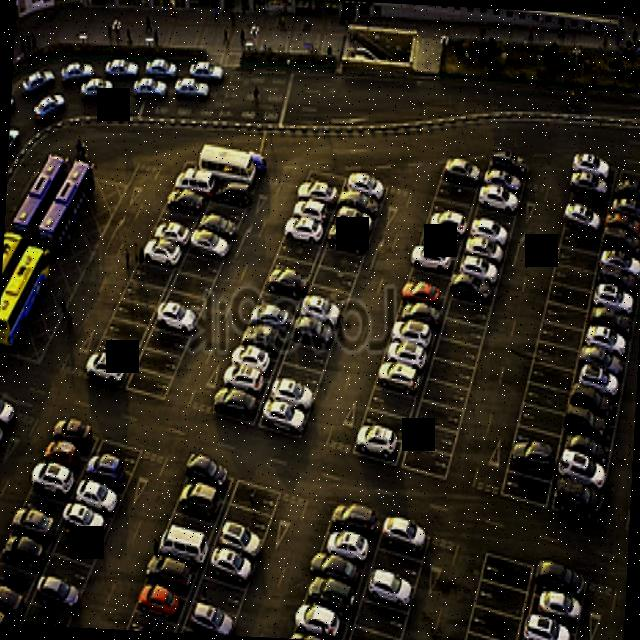car: (287, 593, 351, 640), (132, 573, 188, 623), (347, 422, 405, 469), (552, 473, 602, 527), (300, 574, 360, 618), (154, 522, 207, 568), (530, 586, 584, 630), (324, 496, 378, 540), (207, 542, 258, 588), (308, 544, 364, 585), (171, 478, 222, 523), (142, 548, 194, 592), (378, 516, 432, 558), (532, 555, 586, 596), (373, 353, 427, 394), (80, 350, 134, 391), (296, 292, 346, 336), (215, 515, 266, 558), (31, 573, 84, 614), (259, 396, 307, 441), (210, 385, 262, 426), (386, 310, 439, 350), (324, 218, 372, 262), (324, 521, 378, 560), (398, 270, 450, 310), (238, 320, 290, 359), (289, 312, 337, 354), (187, 597, 238, 636), (245, 299, 296, 338), (362, 570, 417, 606), (392, 297, 450, 331), (264, 379, 322, 413), (58, 504, 112, 540), (1, 531, 49, 571), (31, 458, 79, 498), (405, 240, 458, 276), (182, 449, 235, 485), (50, 414, 100, 452), (334, 184, 386, 220), (502, 440, 560, 472), (12, 502, 58, 542), (259, 264, 310, 300), (382, 332, 432, 368), (72, 478, 122, 514), (138, 235, 185, 273), (220, 361, 268, 398), (292, 165, 340, 202), (582, 326, 634, 360), (230, 340, 274, 380), (286, 194, 334, 230), (83, 455, 132, 490), (38, 434, 88, 468), (571, 144, 615, 182), (282, 210, 326, 248), (576, 349, 629, 380), (332, 202, 379, 236), (569, 392, 620, 423), (152, 305, 203, 336), (277, 617, 345, 640), (150, 220, 193, 256), (196, 209, 240, 244), (556, 459, 612, 486), (466, 232, 507, 268), (519, 615, 578, 640), (575, 368, 624, 398), (440, 152, 482, 187), (344, 165, 386, 200), (207, 178, 256, 208), (187, 228, 230, 262), (565, 411, 612, 442), (593, 284, 640, 315), (470, 216, 511, 251), (458, 250, 501, 283), (584, 307, 637, 333), (218, 155, 258, 189), (162, 187, 205, 218), (599, 247, 640, 278), (595, 267, 640, 295), (172, 171, 214, 201), (559, 206, 607, 232), (424, 211, 471, 237), (0, 578, 26, 625), (482, 164, 525, 192), (450, 270, 490, 300), (478, 182, 518, 212), (566, 173, 614, 197), (489, 147, 529, 175), (182, 154, 221, 182), (604, 223, 640, 253), (562, 438, 608, 461), (107, 616, 169, 632), (605, 210, 640, 238), (610, 169, 640, 199), (610, 191, 640, 218), (0, 391, 22, 423), (0, 414, 8, 455), (0, 600, 12, 624)
free: (462, 589, 528, 640), (479, 544, 538, 597), (475, 572, 533, 617), (371, 544, 429, 588), (193, 573, 249, 618), (498, 466, 556, 509), (363, 380, 416, 427), (159, 502, 215, 546), (426, 348, 478, 395), (355, 598, 413, 640), (220, 500, 274, 545), (438, 308, 493, 352), (440, 294, 498, 334), (92, 428, 146, 469), (274, 362, 332, 399), (512, 399, 567, 438), (233, 472, 283, 514), (54, 524, 104, 566), (434, 328, 484, 369), (312, 255, 360, 297), (162, 268, 218, 304), (302, 275, 352, 314), (18, 483, 66, 523), (404, 421, 457, 457), (124, 366, 177, 402), (284, 338, 334, 376), (178, 250, 230, 286), (40, 557, 89, 595), (144, 325, 193, 363), (320, 239, 366, 279), (114, 280, 167, 314), (158, 285, 211, 319), (122, 600, 176, 633), (530, 340, 582, 374), (103, 316, 147, 356), (112, 294, 156, 334), (128, 254, 172, 294), (296, 162, 347, 196), (424, 378, 472, 414), (512, 383, 570, 412), (272, 231, 320, 266), (515, 418, 561, 454), (134, 346, 186, 377), (404, 446, 450, 481), (416, 398, 463, 432), (268, 250, 316, 283), (92, 332, 138, 366), (150, 204, 200, 235), (472, 198, 516, 233), (254, 284, 298, 319), (539, 300, 590, 330), (552, 245, 601, 276), (524, 366, 574, 396), (451, 618, 519, 640), (547, 280, 594, 311), (562, 188, 614, 214), (18, 604, 74, 628), (202, 197, 249, 225), (430, 179, 480, 205), (425, 193, 479, 217), (347, 618, 405, 640), (0, 559, 33, 597), (537, 324, 585, 350), (554, 228, 606, 252), (552, 262, 596, 290), (404, 266, 456, 288), (414, 230, 468, 250), (177, 622, 226, 636)
